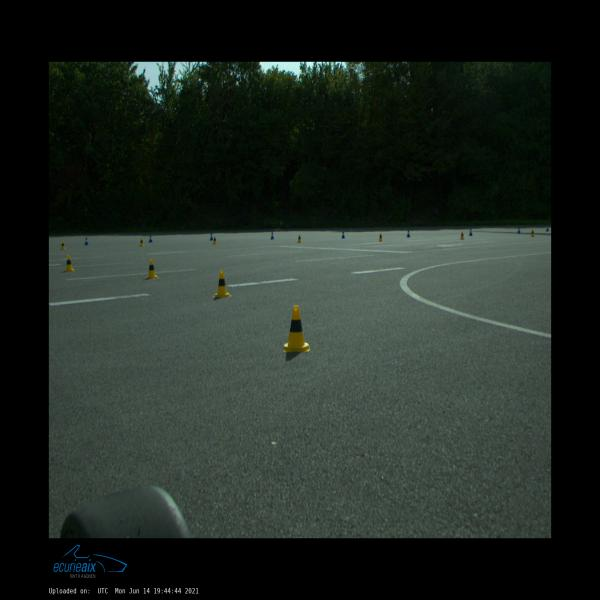blue_cone: (209, 234, 214, 241), (468, 228, 472, 236), (406, 230, 410, 238), (84, 238, 88, 246), (517, 227, 521, 234), (270, 232, 274, 239), (342, 231, 346, 238), (149, 236, 153, 242), (546, 226, 549, 231)
yellow_cone: (284, 305, 310, 352), (213, 271, 232, 297), (145, 259, 160, 279), (64, 255, 75, 272), (60, 241, 66, 250), (378, 233, 383, 242), (530, 229, 535, 237), (460, 230, 464, 240), (297, 235, 302, 242), (213, 236, 217, 244), (140, 238, 144, 246)
